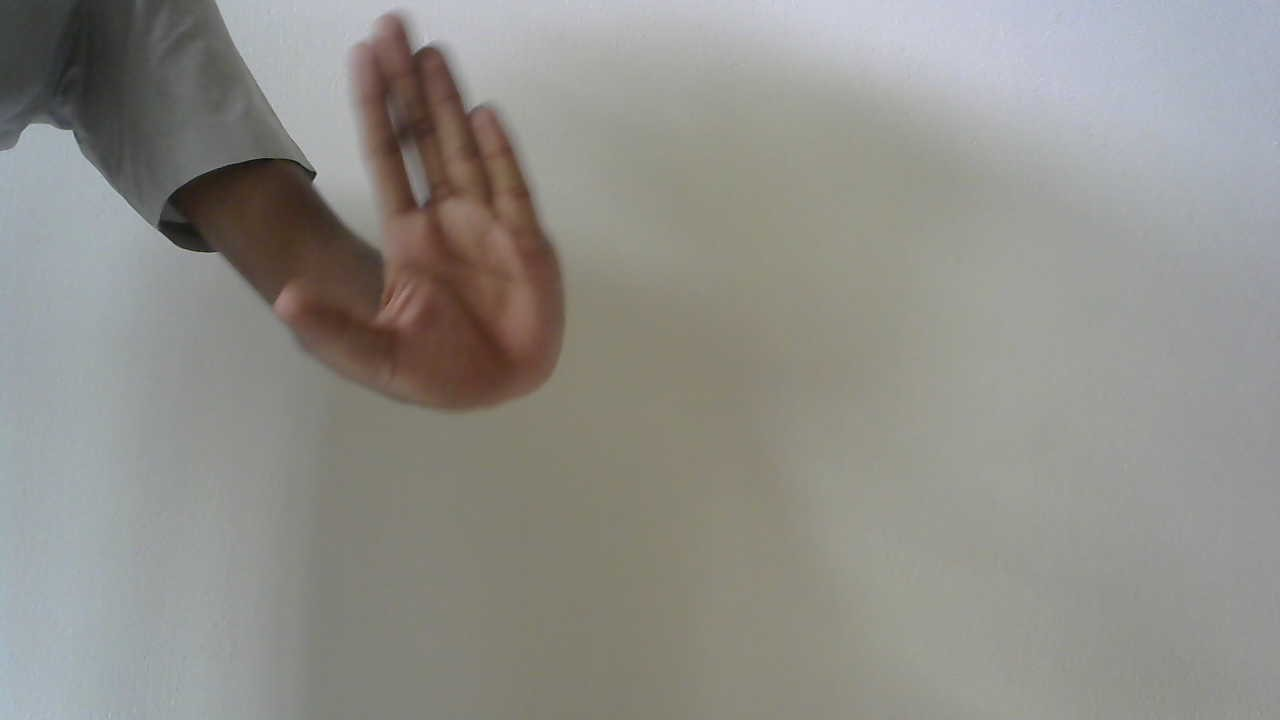hello: (270, 16, 590, 420)
